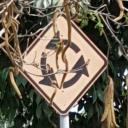Rotatoria: (16, 12, 109, 116)
